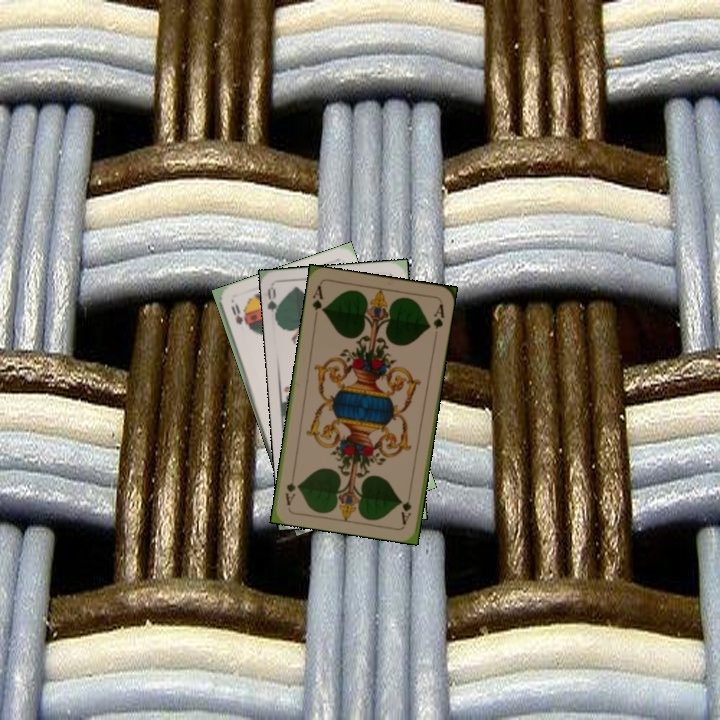GA: (397, 486, 414, 526), (308, 281, 327, 314)
GO: (264, 284, 284, 325)
SO: (227, 300, 246, 327)
